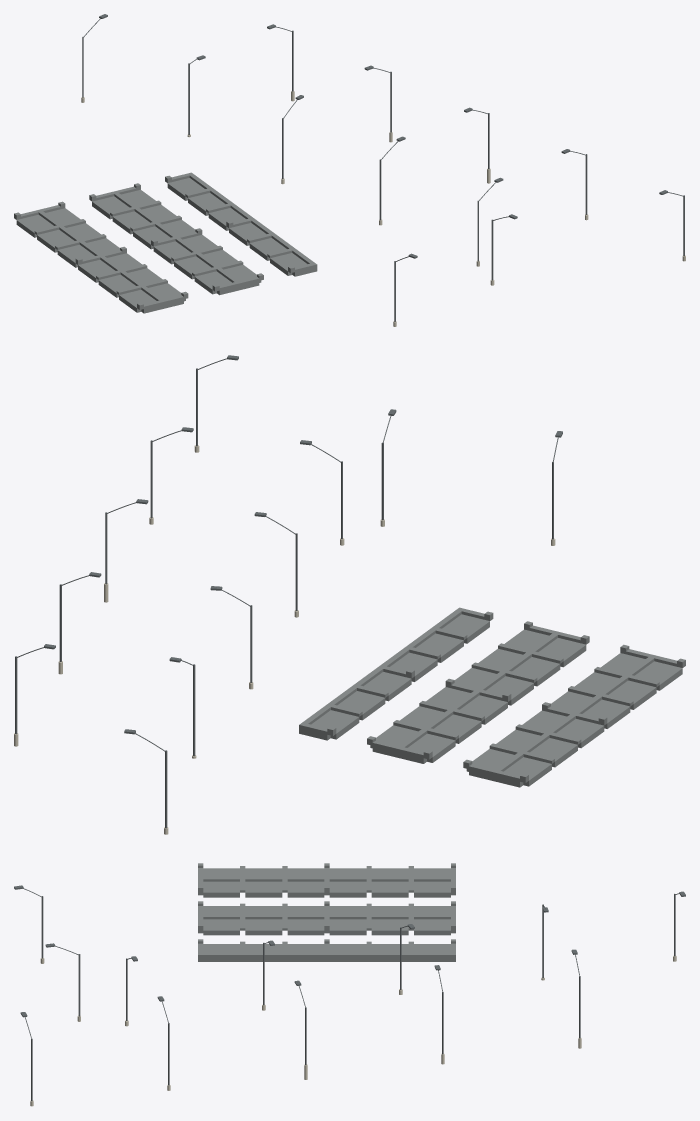
3 renders of one model, top to bottom at view 1: azimuth 30°, elevation 25°; view 2: azimuth 150°, elevation 25°; view 3: azimuth 270°, elevation 25°, orthographic. The views are drawn at different scales.
Visible parts, largest first — view 1: buildings_s_0_-4_Standing_Seam_Roof, buildings_s_0_-4_Dark_Metal; view 2: buildings_s_0_-4_Standing_Seam_Roof, buildings_s_0_-4_Dark_Metal; view 3: buildings_s_0_-4_Standing_Seam_Roof, buildings_s_0_-4_Dark_Metal.
Boxes of the visible parts, left/top/right/bottom form: buildings_s_0_-4_Standing_Seam_Roof: left=14, top=172, right=317, bottom=313; buildings_s_0_-4_Dark_Metal: left=82, top=14, right=684, bottom=321; buildings_s_0_-4_Standing_Seam_Roof: left=299, top=607, right=685, bottom=787; buildings_s_0_-4_Dark_Metal: left=15, top=355, right=562, bottom=828; buildings_s_0_-4_Standing_Seam_Roof: left=198, top=863, right=455, bottom=961; buildings_s_0_-4_Dark_Metal: left=14, top=885, right=685, bottom=1101.
Size of the model in its own units: 105 by 17.75 by 128.
